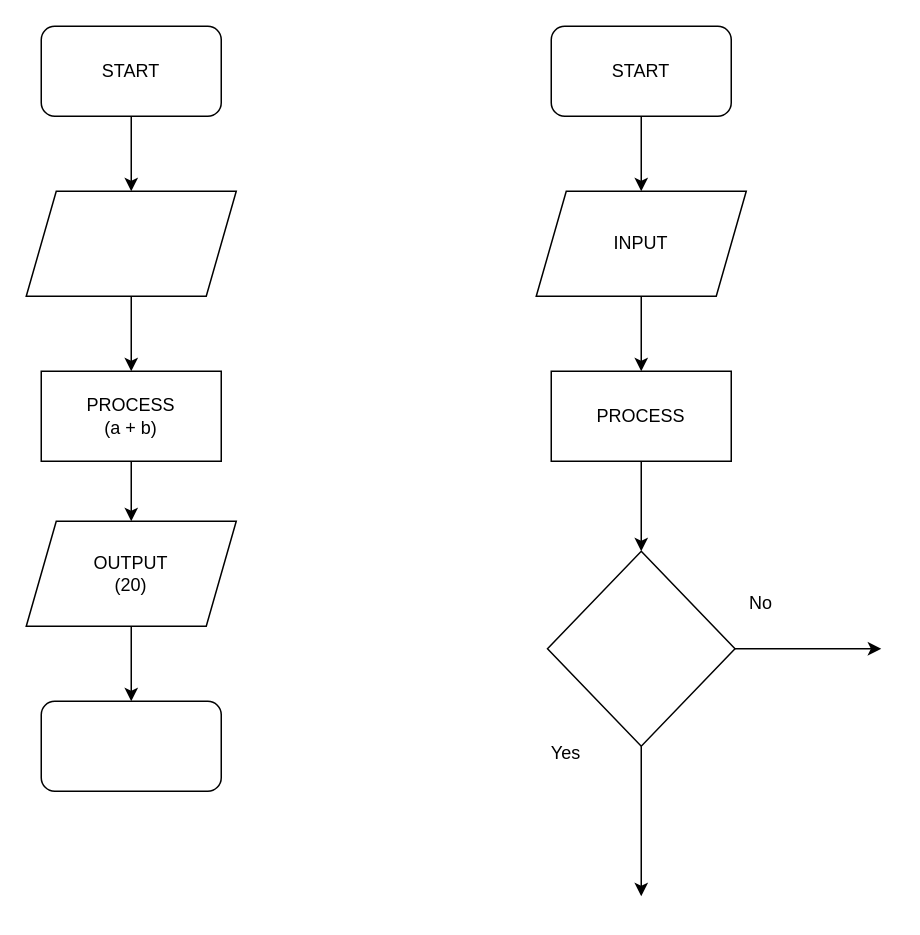
Image size: 920x935. Some labels were removed from this diagram. Each missing label, with the centre of its shape:
"DECISION" belongs at pixel 640 648.
"END" belongs at pixel 130 745.
"INPUT (a = 10, b = 10)" belongs at pixel 130 243.
